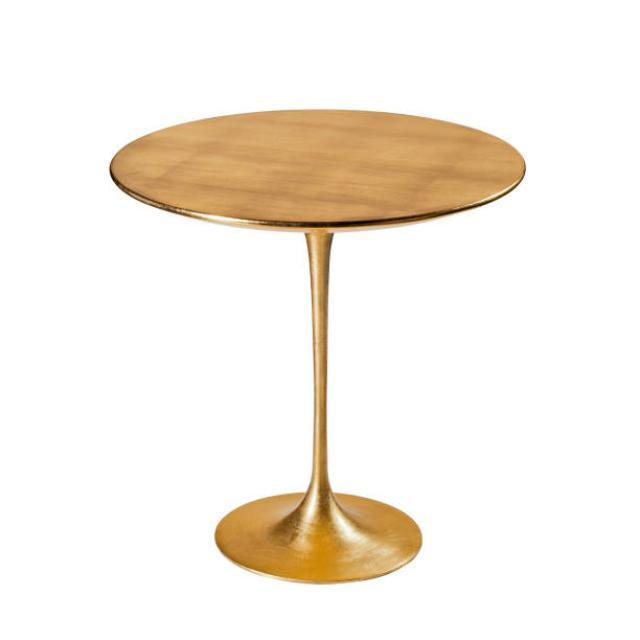table: (109, 106, 526, 584)
